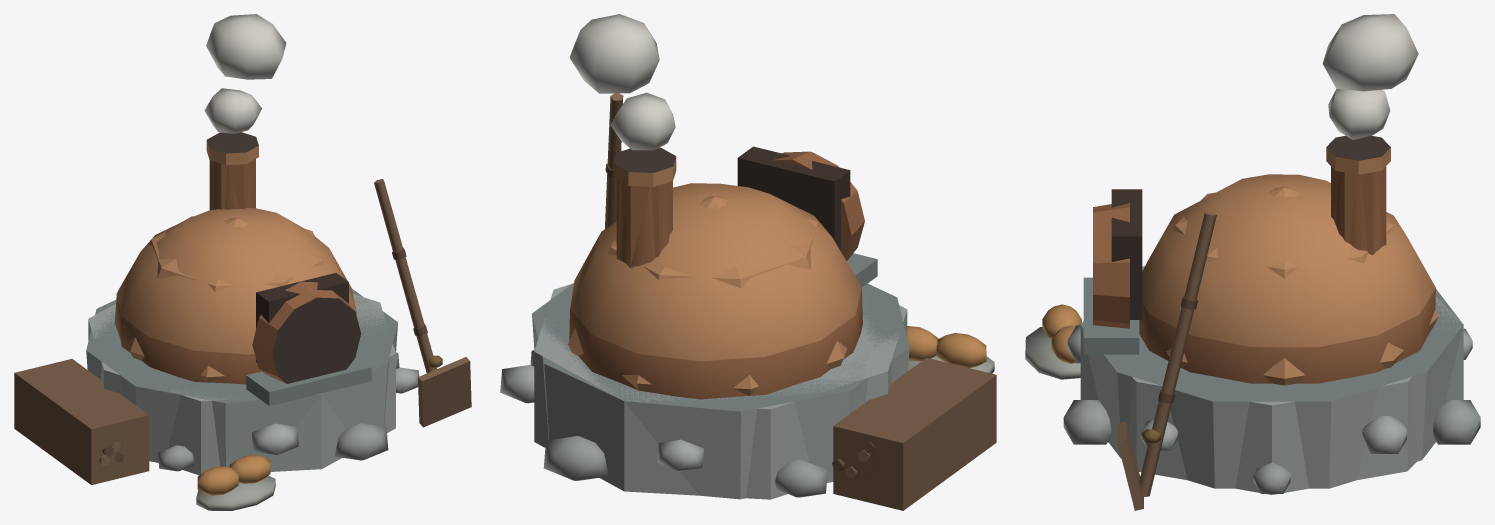
The model's file is oven.glb.
The picture shows the model from 3 angles, left to right: view 1: azimuth 30°, elevation 25°; view 2: azimuth 150°, elevation 25°; view 3: azimuth 270°, elevation 25°; orthographic projection. The views are drawn at different scales.
Visible parts, largest first — view 1: body, body__far, body_nl; view 2: body, body__far, body_nl; view 3: body, body__far, body_nl.
Boxes of the visible parts, left/top/right/bottom form: body: left=86, top=132, right=471, bottom=510; body__far: left=14, top=159, right=395, bottom=484; body_nl: left=204, top=14, right=286, bottom=133; body: left=500, top=93, right=994, bottom=499; body__far: left=534, top=146, right=996, bottom=510; body_nl: left=569, top=14, right=675, bottom=150; body: left=1025, top=135, right=1480, bottom=510; body__far: left=1080, top=166, right=1463, bottom=494; body_nl: left=1322, top=14, right=1418, bottom=139.
Bounding box in the file's own units: 1.62 × 1.62 × 1.47.
